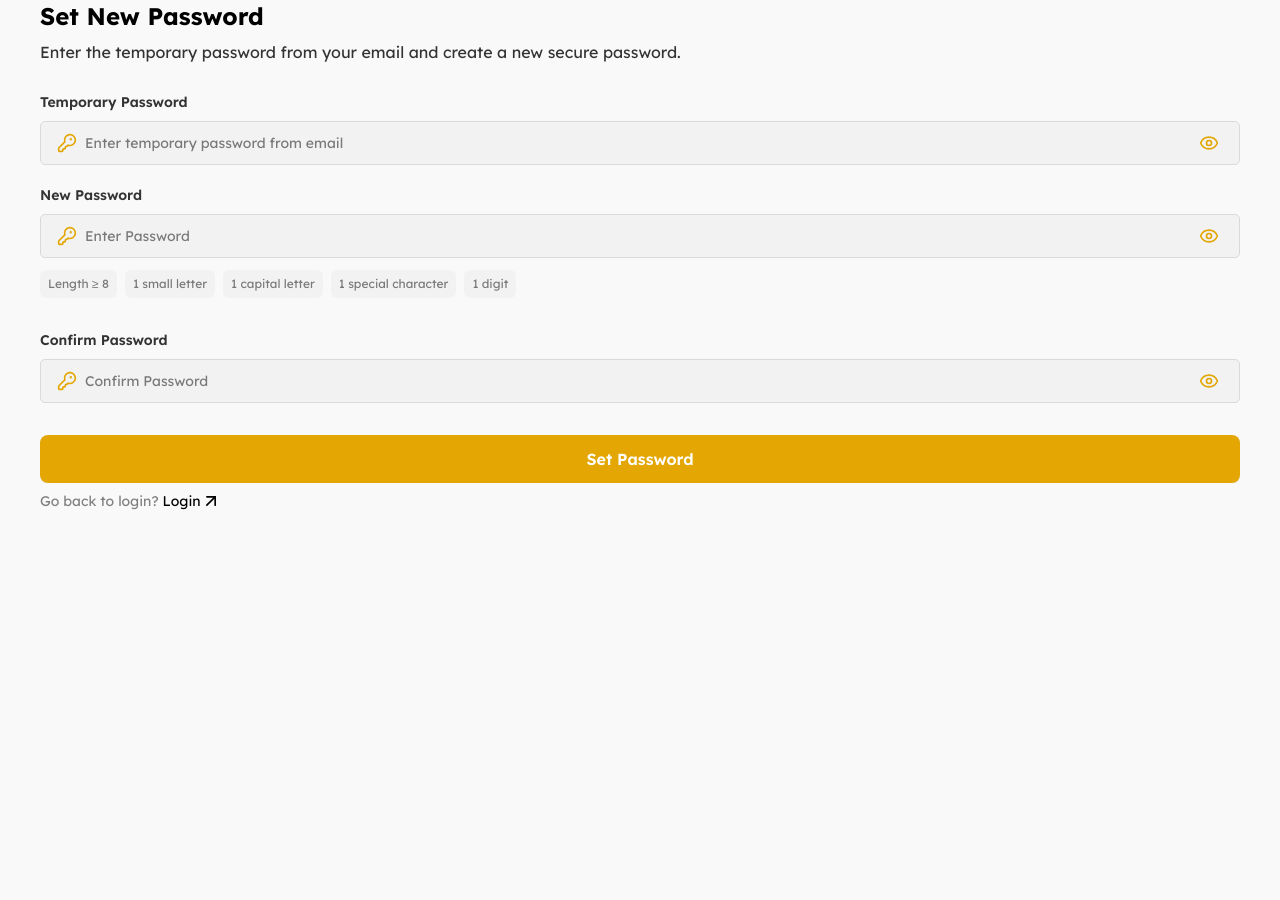
Test: FirstLoginSetupPasswordPage › shows the success popup once the backend confirms
Type "Temp@1234" into the password field labelled "Temporary Password" at (636, 143), box [85,132,1187,154]
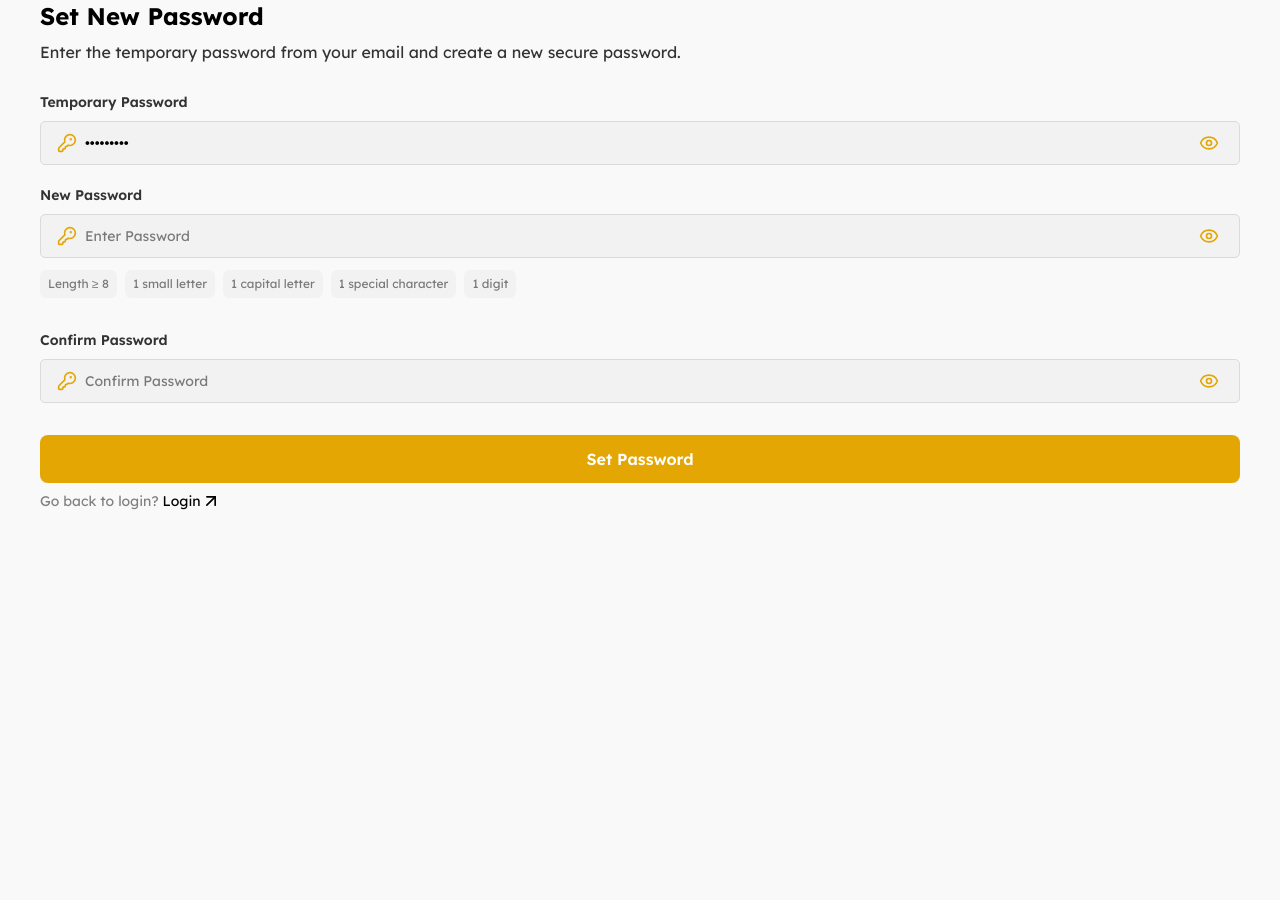
Type "TradeHarmony1!" into the password field labelled "New Password" at (636, 236), box [85,226,1187,246]
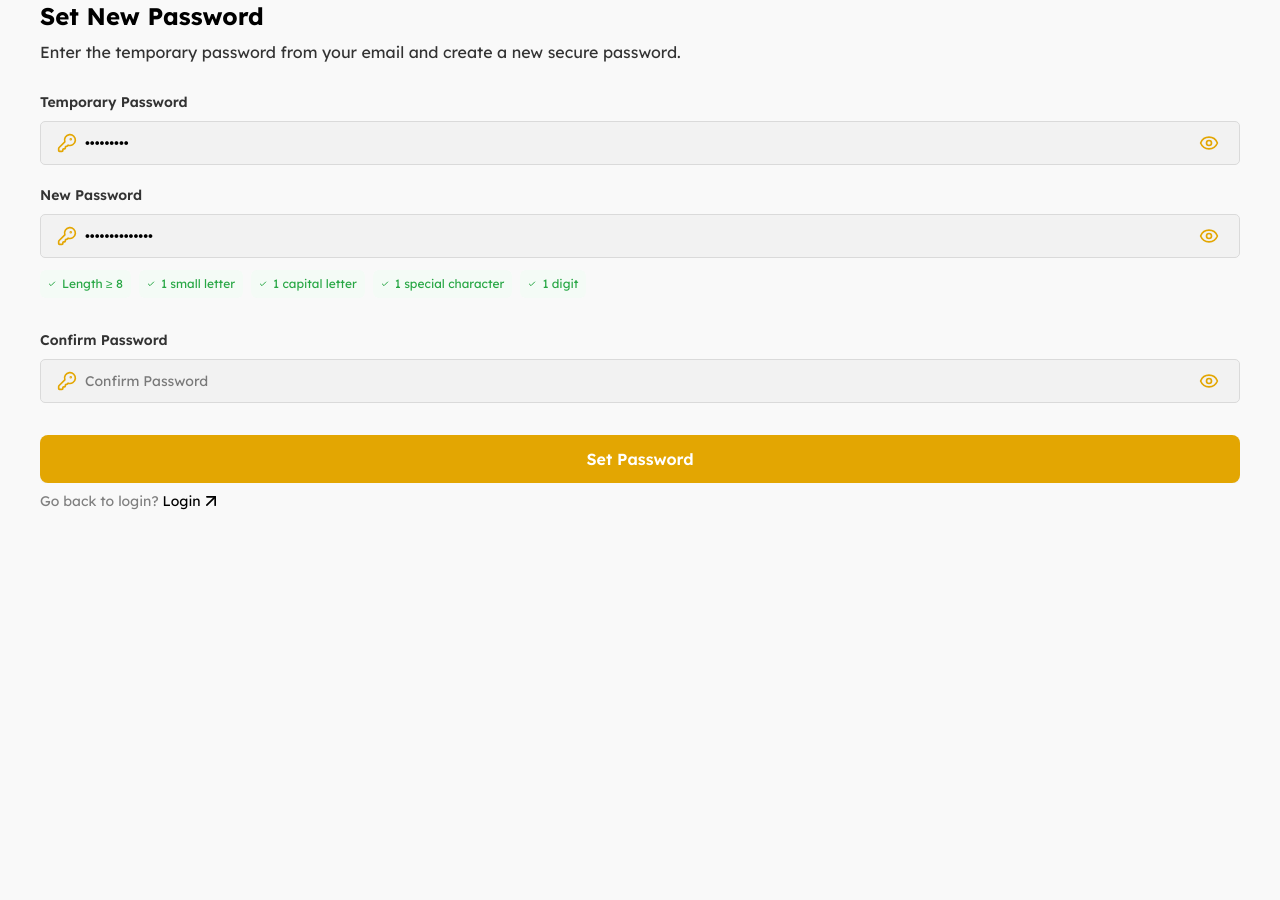
Type "TradeHarmony1!" into the password field labelled "Confirm Password" at (636, 381), box [85,370,1187,392]
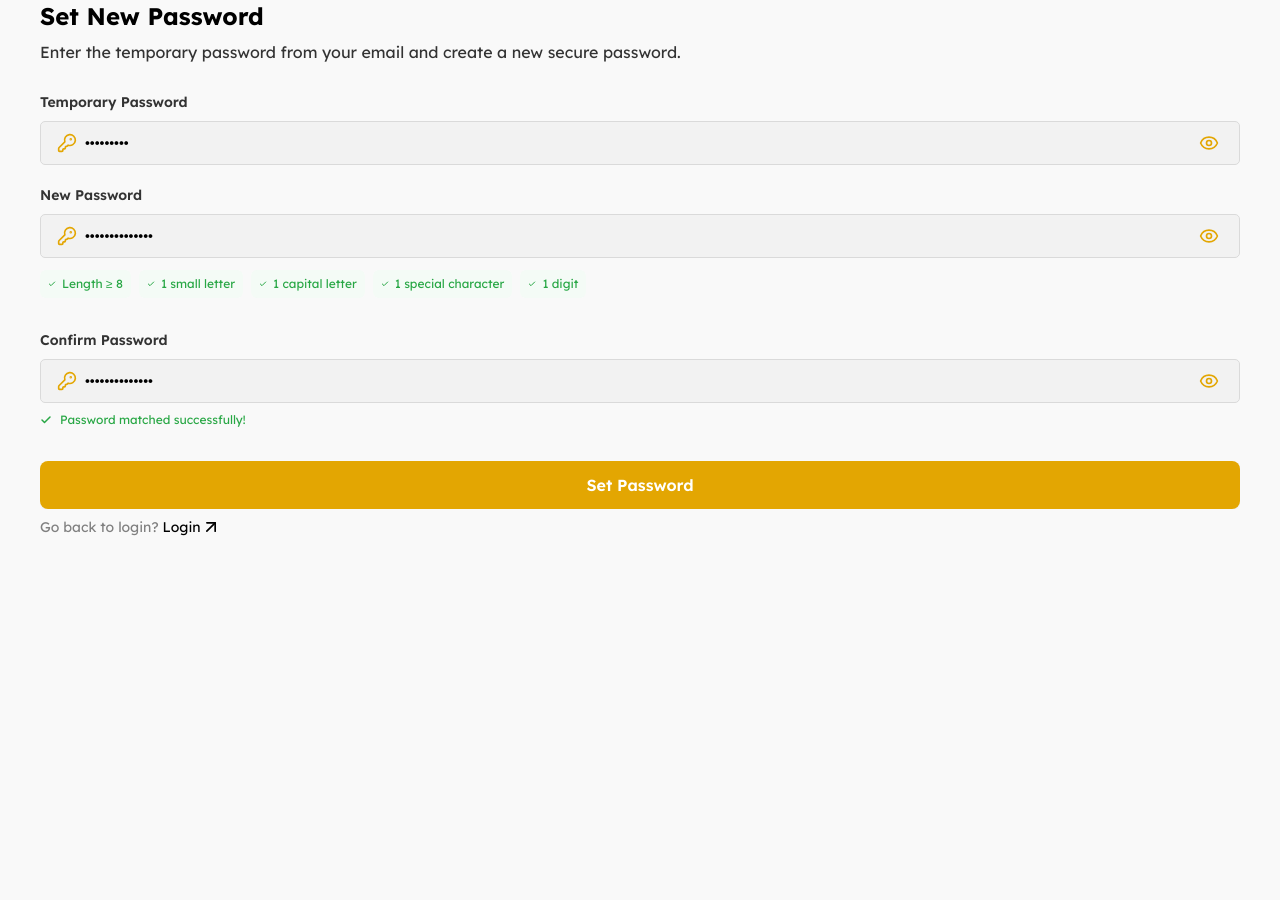
Click the button "Set Password" at (640, 485), box [40,461,1240,509]
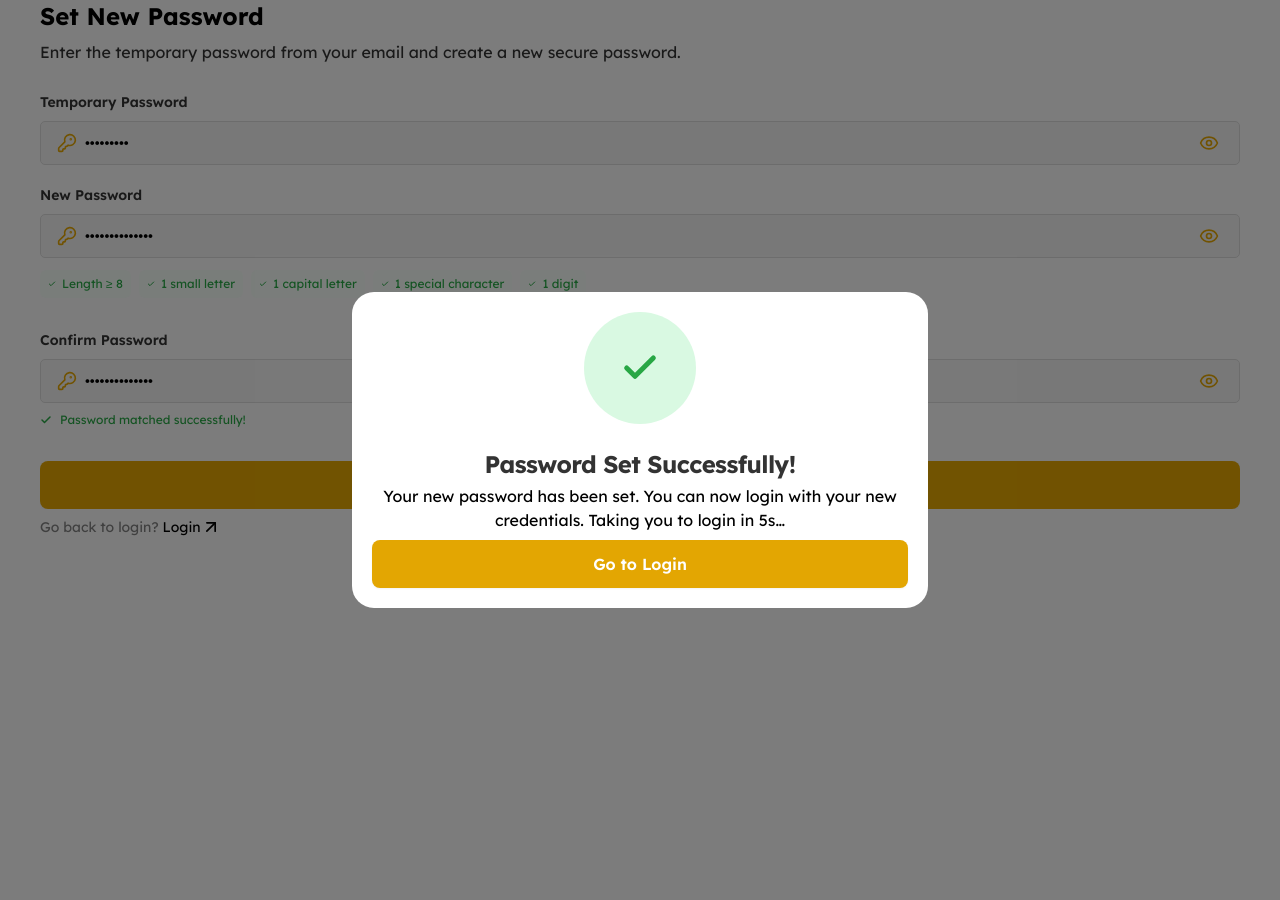
Result: the heading "Password Set Successfully!" is shown at [484,449,795,479]
